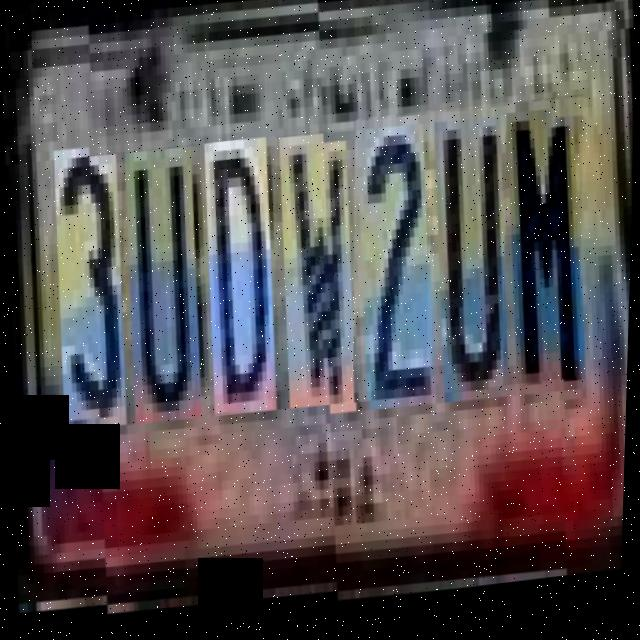2: (350, 119, 440, 411)
3: (47, 154, 130, 435)
D: (197, 141, 280, 423)
M: (500, 107, 590, 398)
U: (425, 113, 515, 404), (117, 147, 205, 429)
W: (271, 135, 360, 417)
